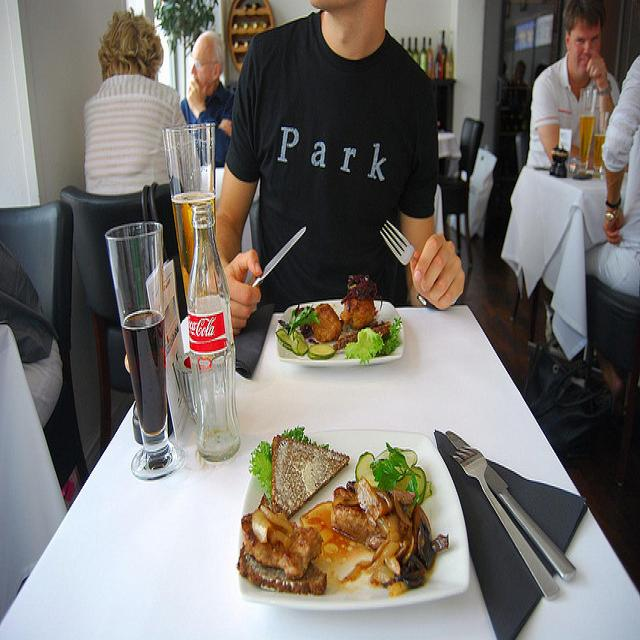chair: (60, 180, 185, 455), (0, 198, 88, 494), (481, 63, 546, 274), (585, 268, 640, 488), (438, 119, 483, 271)
dining table: (4, 297, 640, 631), (525, 156, 608, 193), (200, 164, 225, 205), (436, 129, 462, 159)
